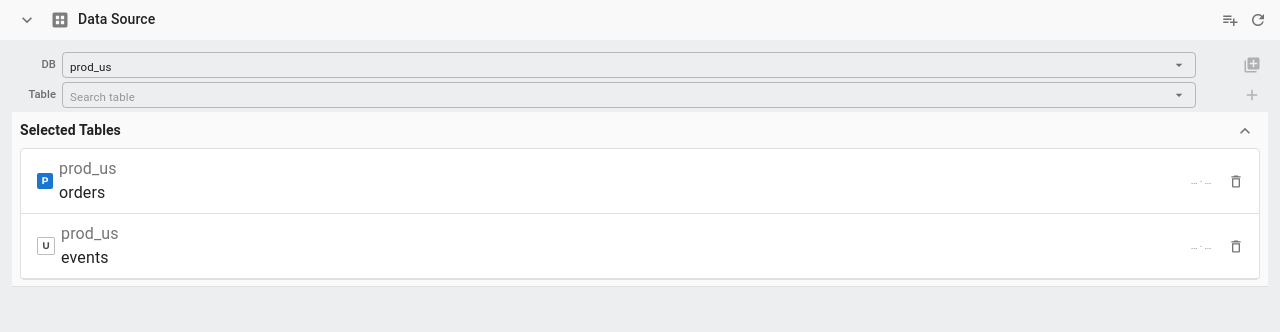
CompactMetadataSelector — database mirror › badges the tables the database did not have
The width and height of the screenshot is (1280, 332).
Press the mouse on the dropdown with placeholder "Database" at (620, 65), box [70,52,1170,78]
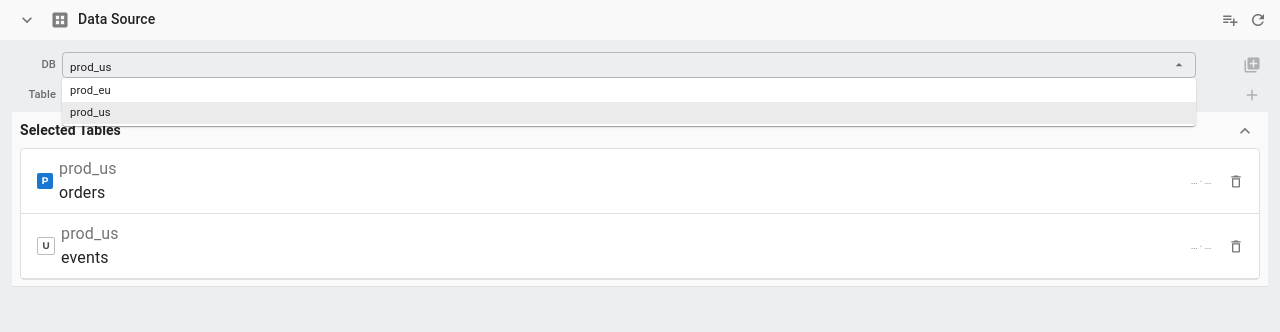
Click the option "prod_eu" at (90, 90), box [70,84,111,97]
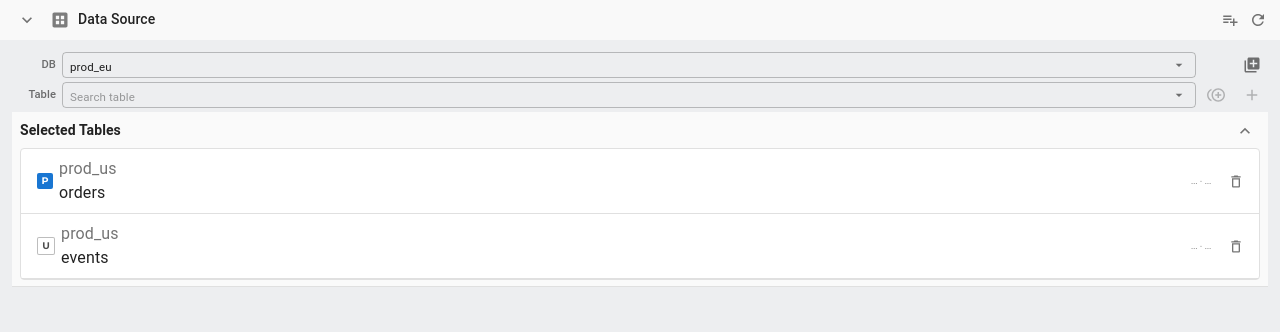
Click the button named "Add matching tables from database" at (1252, 65), box [1239,52,1265,78]
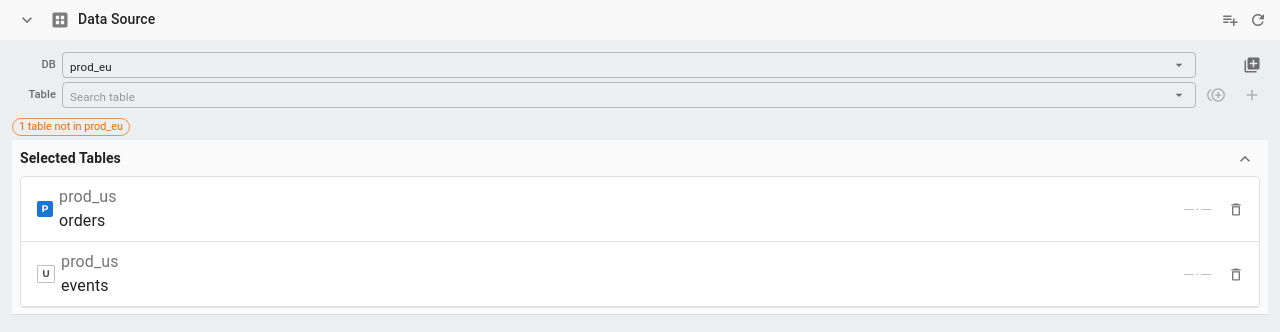
Result: the message reads "1 table not in prod_eu" at [19,120,123,133]
